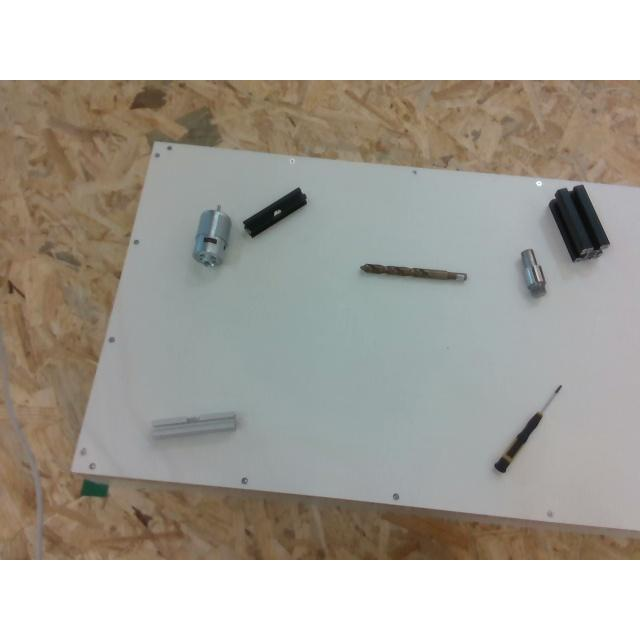Axis2: (522, 248, 546, 296)
Drill: (361, 264, 467, 280)
F20_20_B: (242, 187, 306, 237)
F20_20_G: (152, 410, 236, 438)
Motor2: (193, 205, 230, 267)
S40_40_B: (549, 185, 609, 261)
